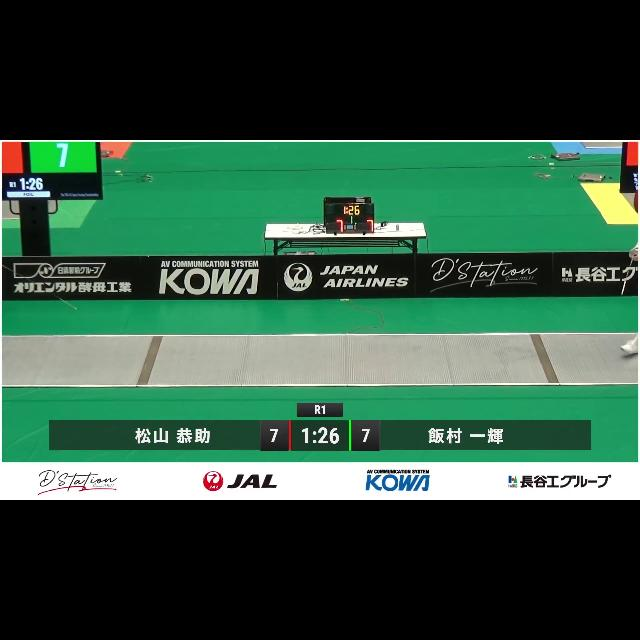blade: (620, 250, 638, 298)
